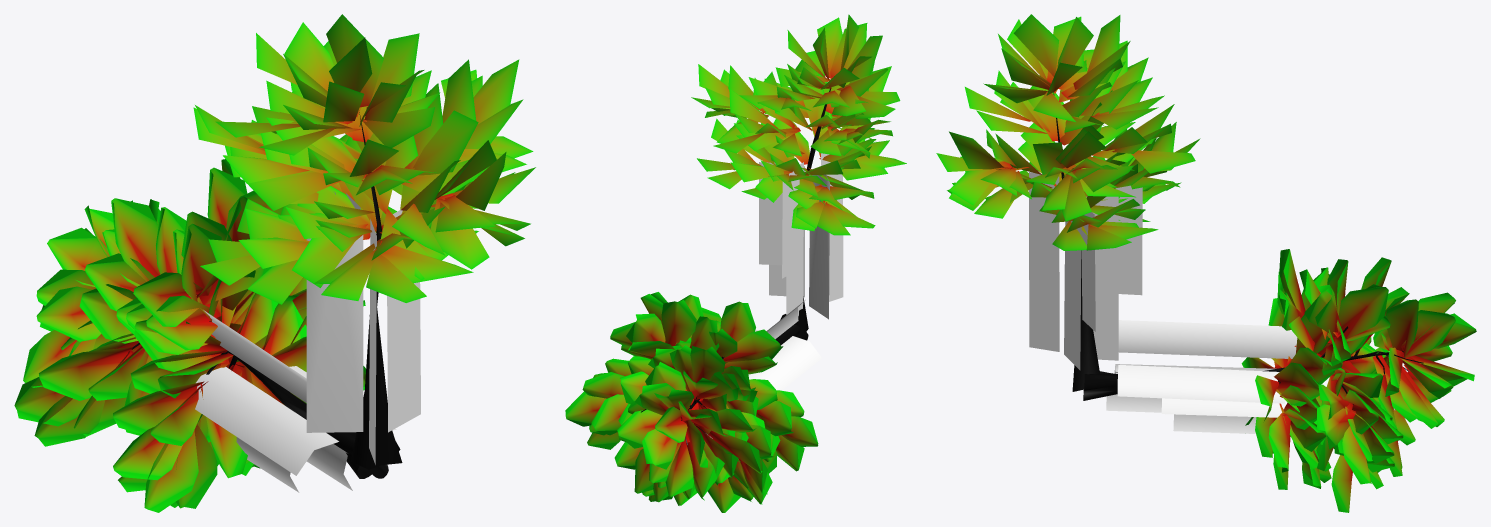
Rendered from m_tree.fbx.
3 views of the same model, side by side, from view 1: azimuth 30°, elevation 25°; view 2: azimuth 150°, elevation 25°; view 3: azimuth 270°, elevation 25° (orthographic). The views are drawn at different scales.
Parts seen in each view (by area): view 1: Cecropia256, Cecropia512; view 2: Cecropia512, Cecropia256; view 3: Cecropia512, Cecropia256.
Part boxes in pixels (x1,y1,x2,y2): Cecropia256: [193, 14, 535, 469]; Cecropia512: [14, 159, 400, 512]; Cecropia512: [565, 292, 821, 512]; Cecropia256: [691, 14, 906, 335]; Cecropia512: [1083, 249, 1476, 512]; Cecropia256: [936, 14, 1200, 391].
Size of what is drawn, in the model's own units: 840 by 1593 by 1664.
